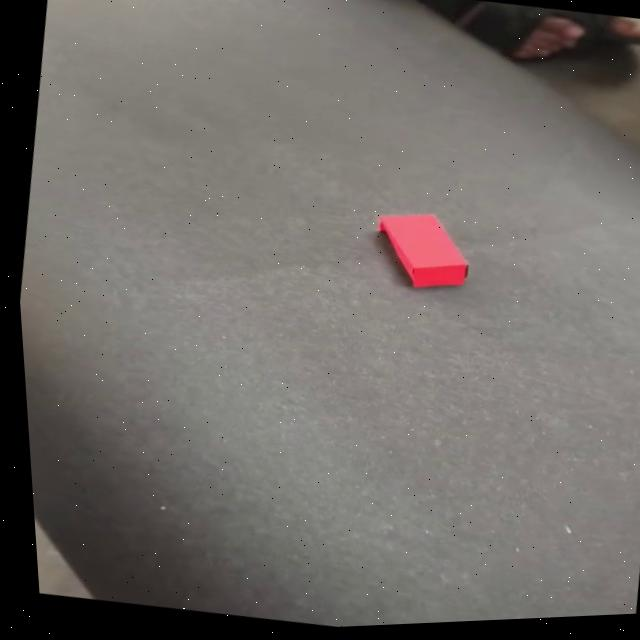red block: (367, 202, 480, 297)
